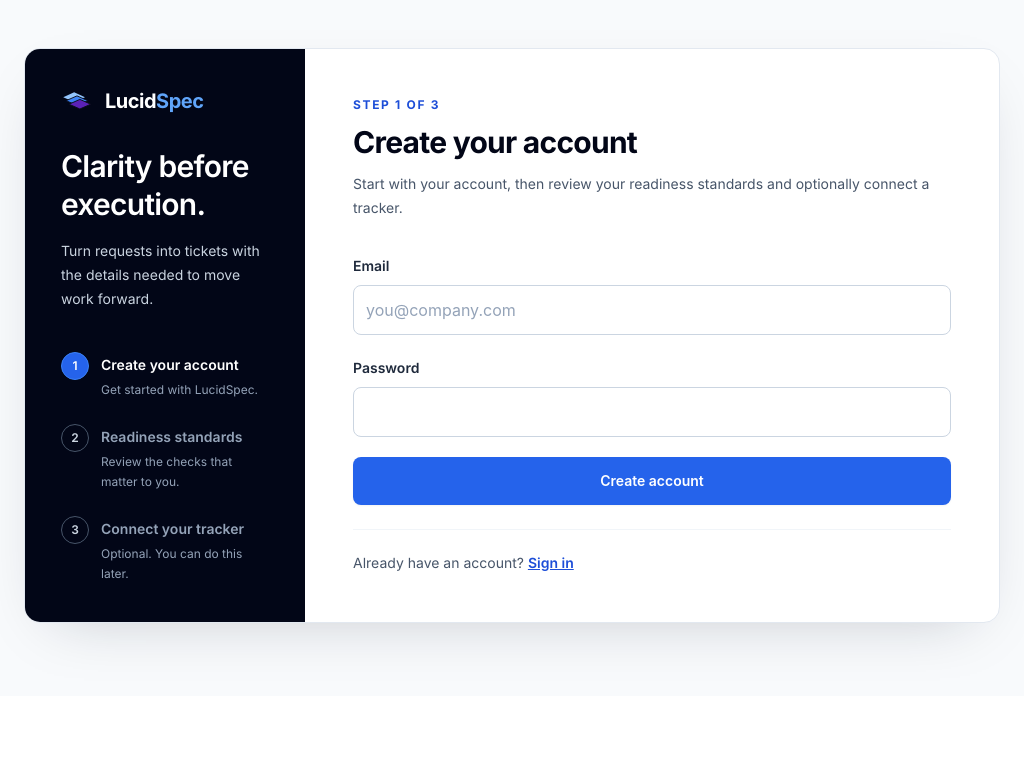
SignUpPage › preserves the existing duplicate-account response
Type "demo@example.com" into the field labelled "Email".
click(652, 310); type("demo@example.com")  # box [353,285,951,335]
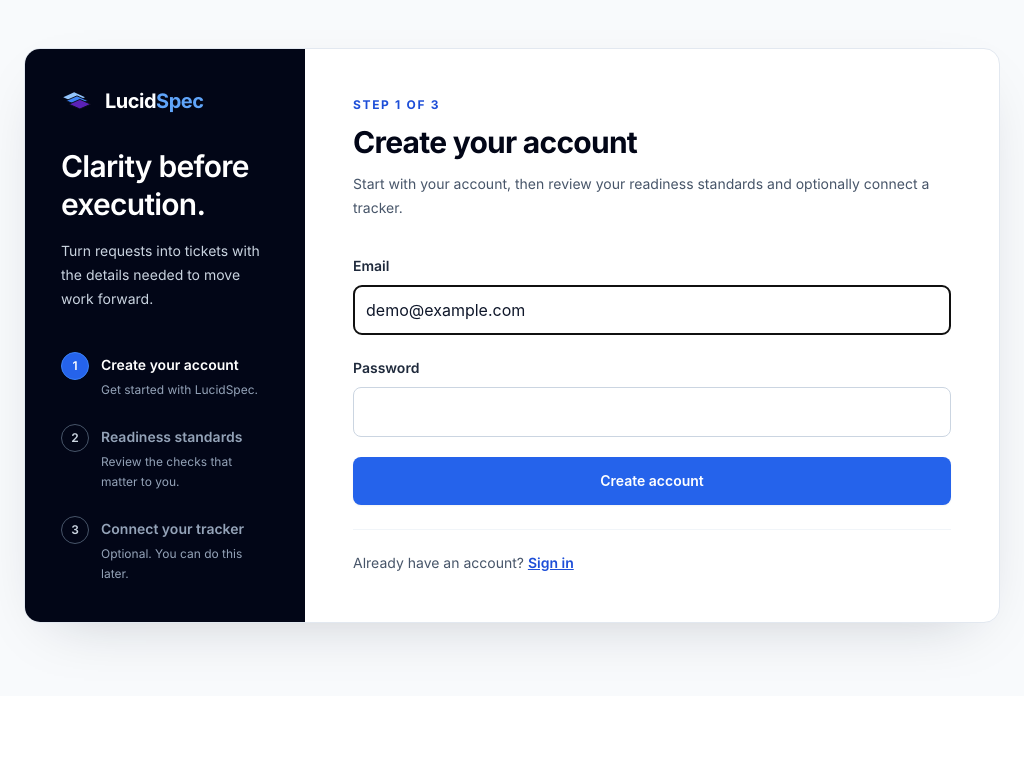
Type "example-password" into the password field labelled "Password".
click(652, 412); type("example-password")  # box [353,387,951,437]
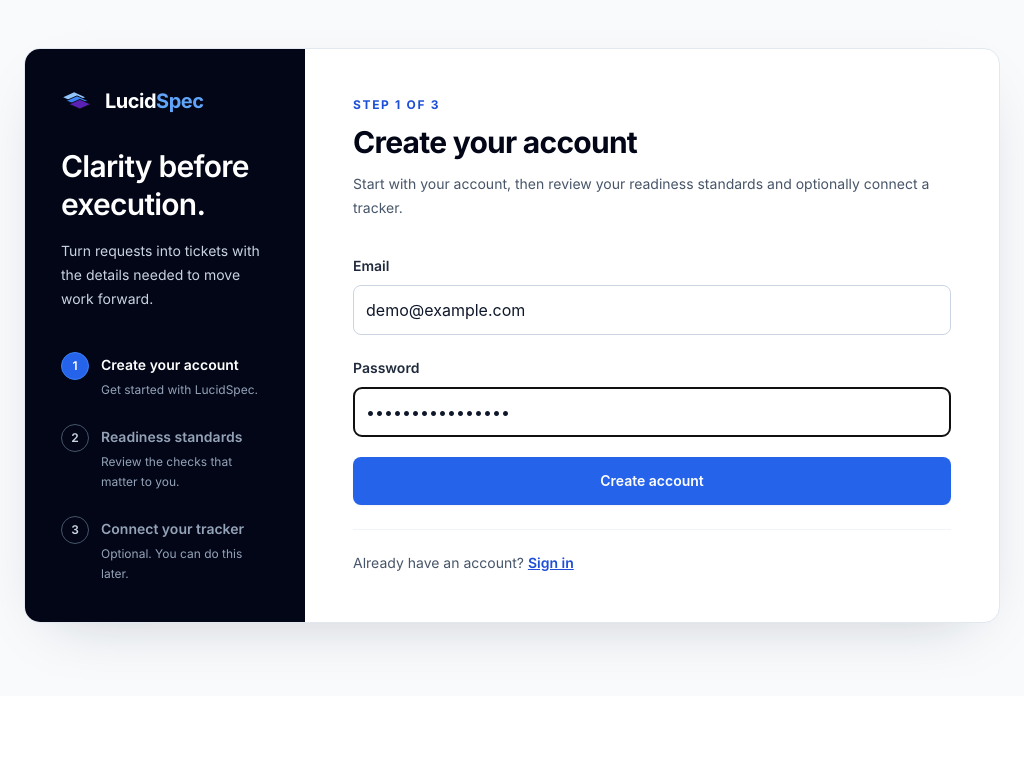
Click the button "Create account".
click(652, 481)  # box [353,457,951,505]
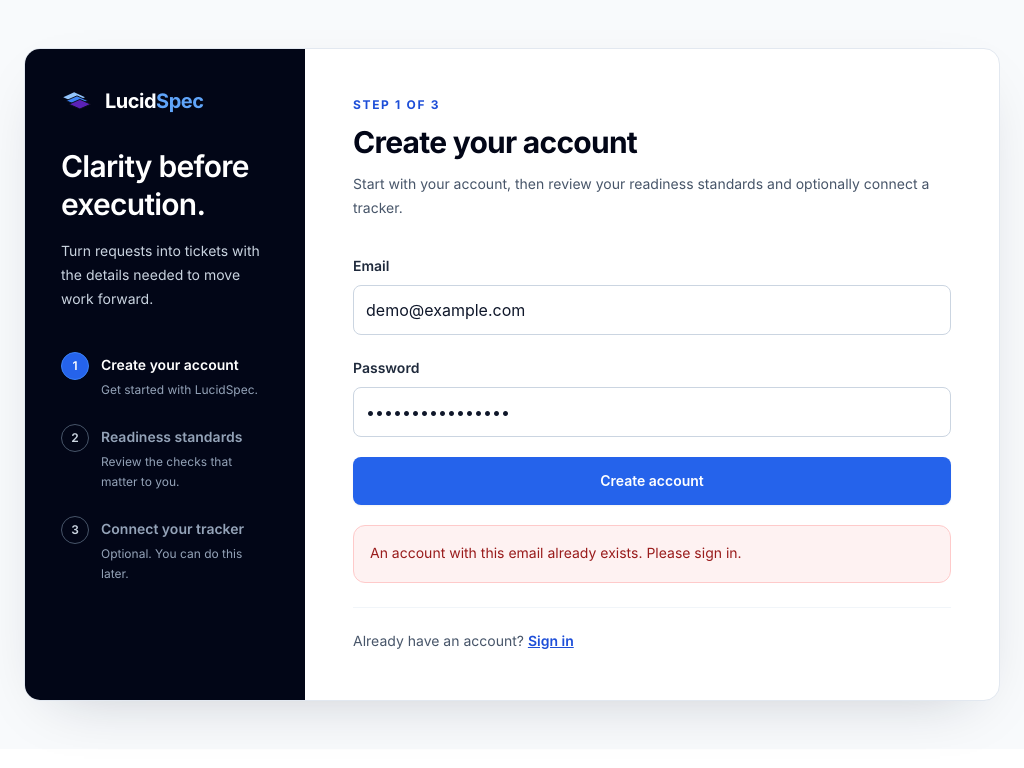
Result: the message reads "An account with this email already exists. Please sign in." at [370,545,742,562]
